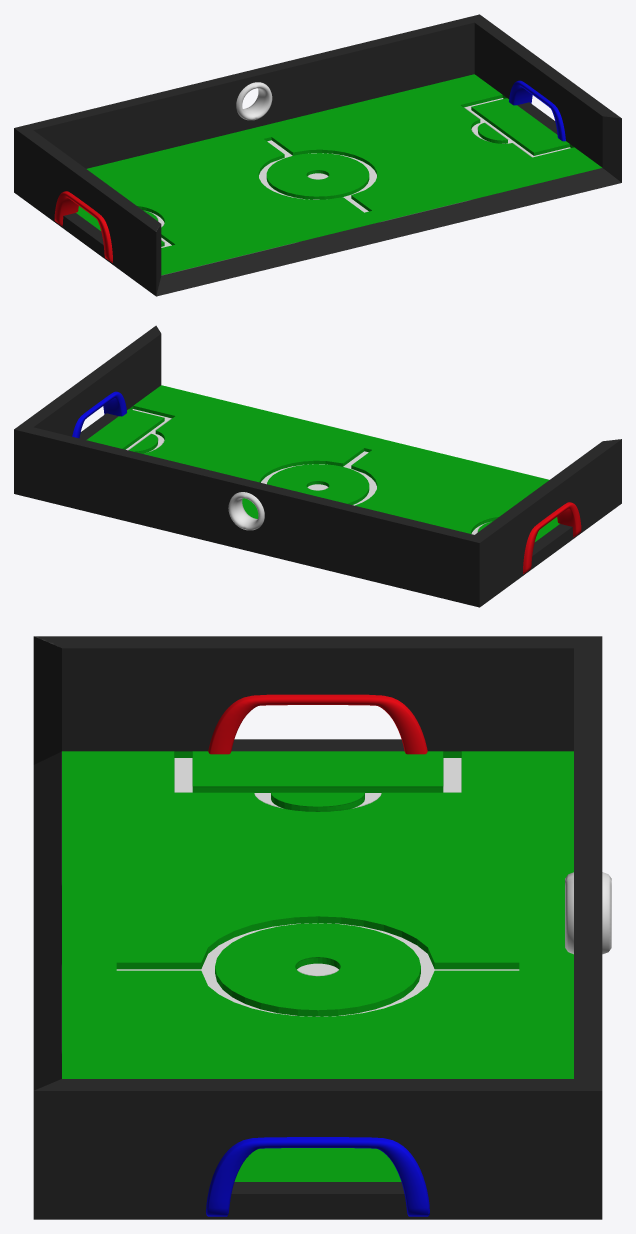
File: plate.glb
The picture shows the model from 3 angles, top to bottom: view 1: azimuth 30°, elevation 25°; view 2: azimuth 150°, elevation 25°; view 3: azimuth 270°, elevation 25°; orthographic projection. The views are drawn at different scales.
Parts seen in each view (by area): view 1: Cube.005; view 2: Cube.005; view 3: Cube.005.
Part boxes in pixels (x1=…): Cube.005: x1=14, y1=14, x2=621, y2=296; Cube.005: x1=14, y1=325, x2=621, y2=607; Cube.005: x1=33, y1=636, x2=611, y2=1219.
Bounding box in the file's own units: 17.06 × 2.22 × 9.19.
Materials: 4 (2 with a texture image).
